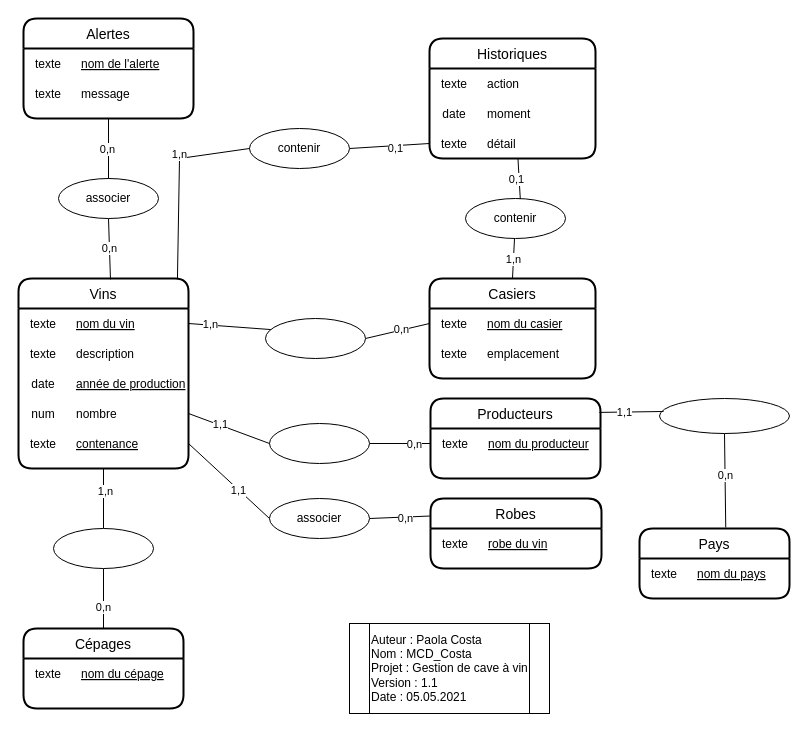
The diagram is 807 pixels wide and 731 high, and some of its shapes have lost their labels. The centre of each missing label's shape, as x and y in pixels:
produire: the point at 319,443
provenir: the point at 724,416
se composer: the point at 103,548
situer: the point at 315,338
